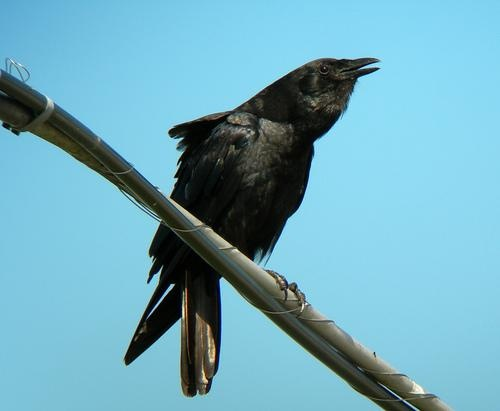bird: (126, 55, 384, 398)
